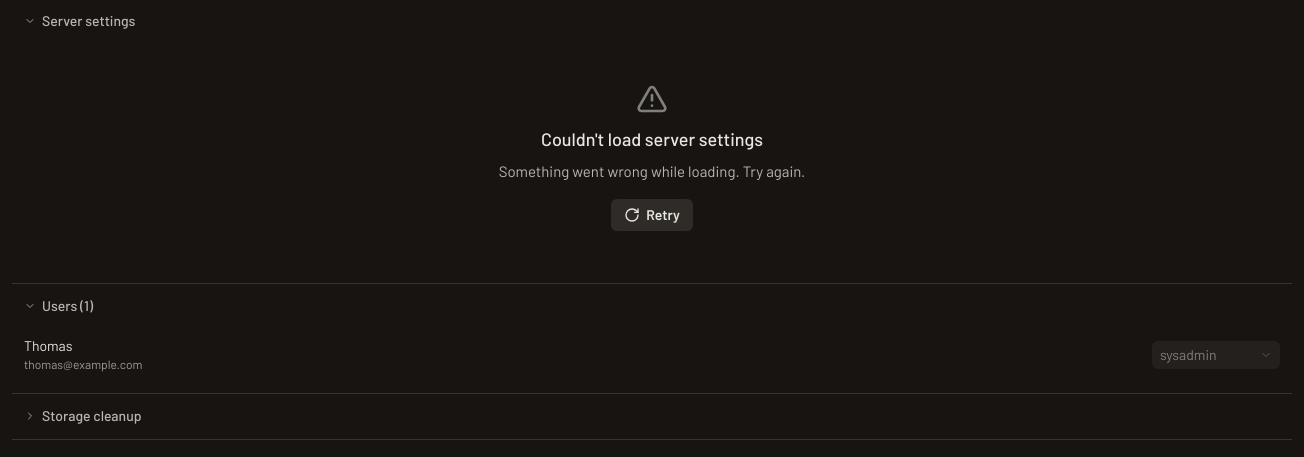
Test: ServerAdminSection › replaces the settings spinner with a Retry when settings fail, and recovers
Expected: the text "Couldn't load server settings" is shown, [541,127,763,152]
Expected: the text "Thomas" is shown, [24,337,72,354]
Step 1. Click the button "Retry" → (652, 215), box [611,199,693,231]
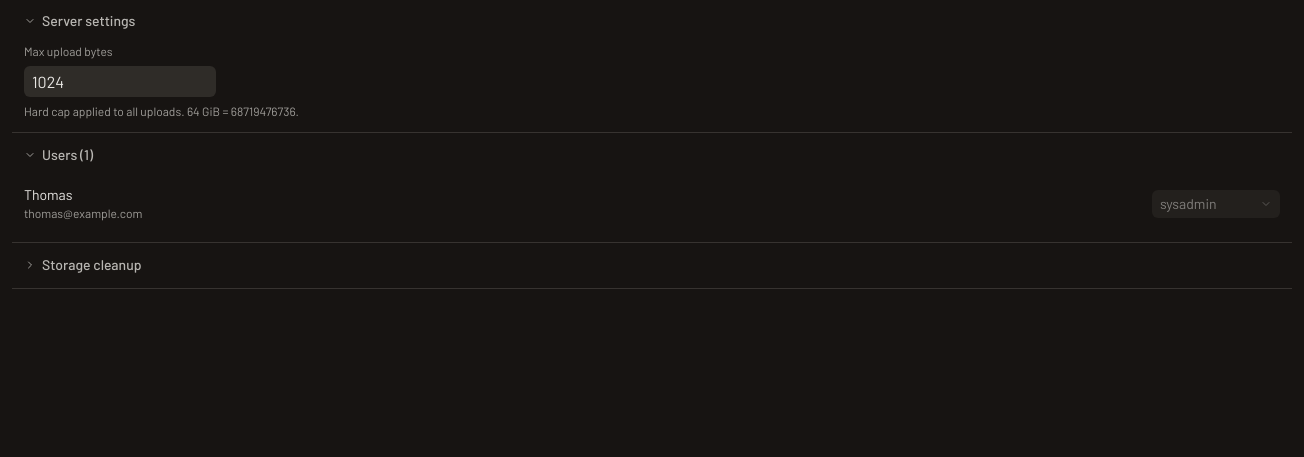
Expected: the number field showing "1024" is shown, [32,72,208,91]
